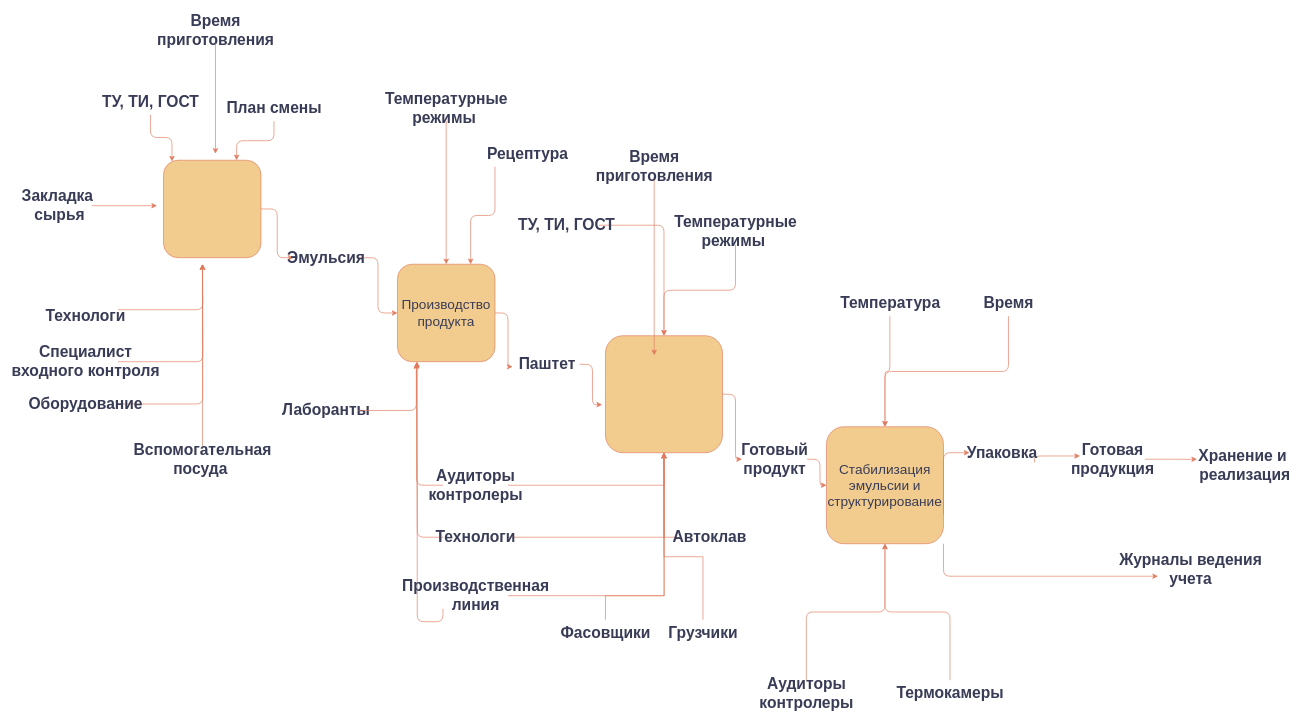
The diagram is 1301 pixels wide and 723 high, and some of its shapes have lost their labels. The centre of each missing label's shape, as x and y in pixels:
Подготовка и смешивание сырья: the point at 212,209
Порционирование и стерилизация: the point at 663,394
